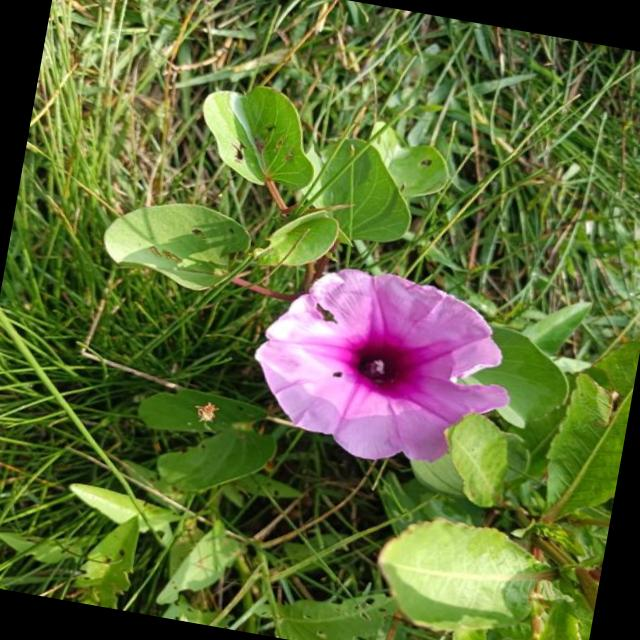ipomoea: (236, 249, 530, 484)
